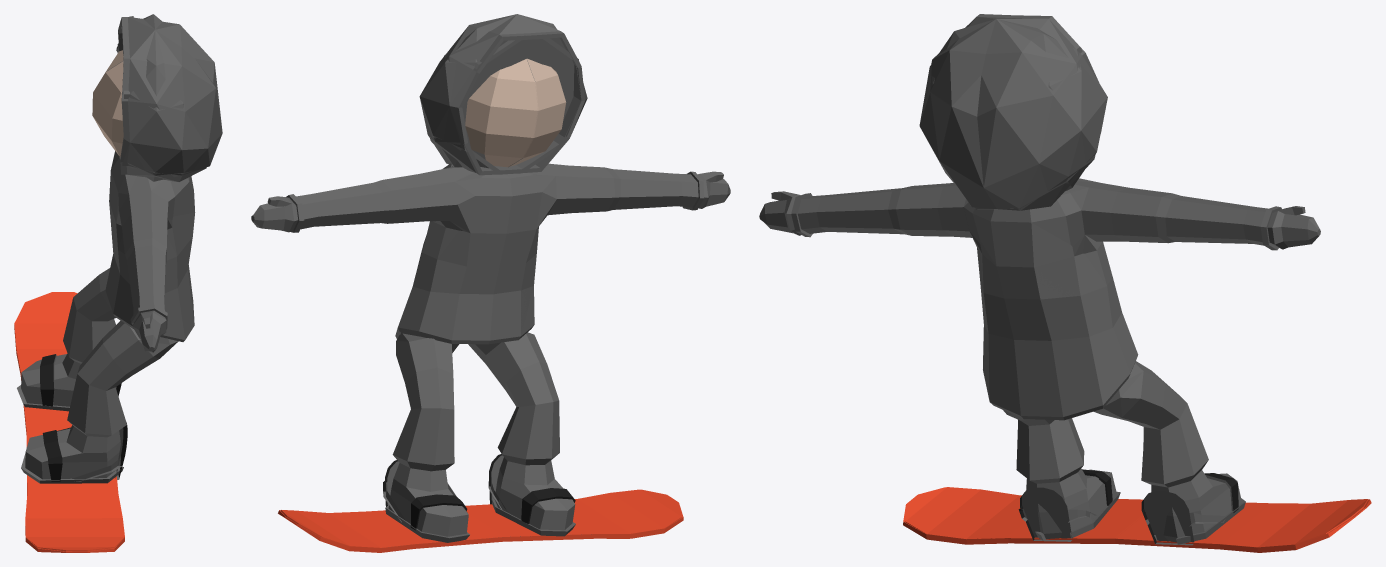
The model's file is snowboarder.glb.
The picture shows the model from 3 angles, left to right: view 1: azimuth 30°, elevation 25°; view 2: azimuth 150°, elevation 25°; view 3: azimuth 270°, elevation 25°; orthographic projection. The views are drawn at different scales.
Parts seen in each view (by area): view 1: person; view 2: person; view 3: person.
Boxes of the visible parts, box(x1,y1,x2,y2) form: person: box(14, 14, 222, 552); person: box(251, 14, 730, 552); person: box(759, 14, 1371, 552).
Size of the model in its own units: 0.3277 by 0.5749 by 0.5749.
